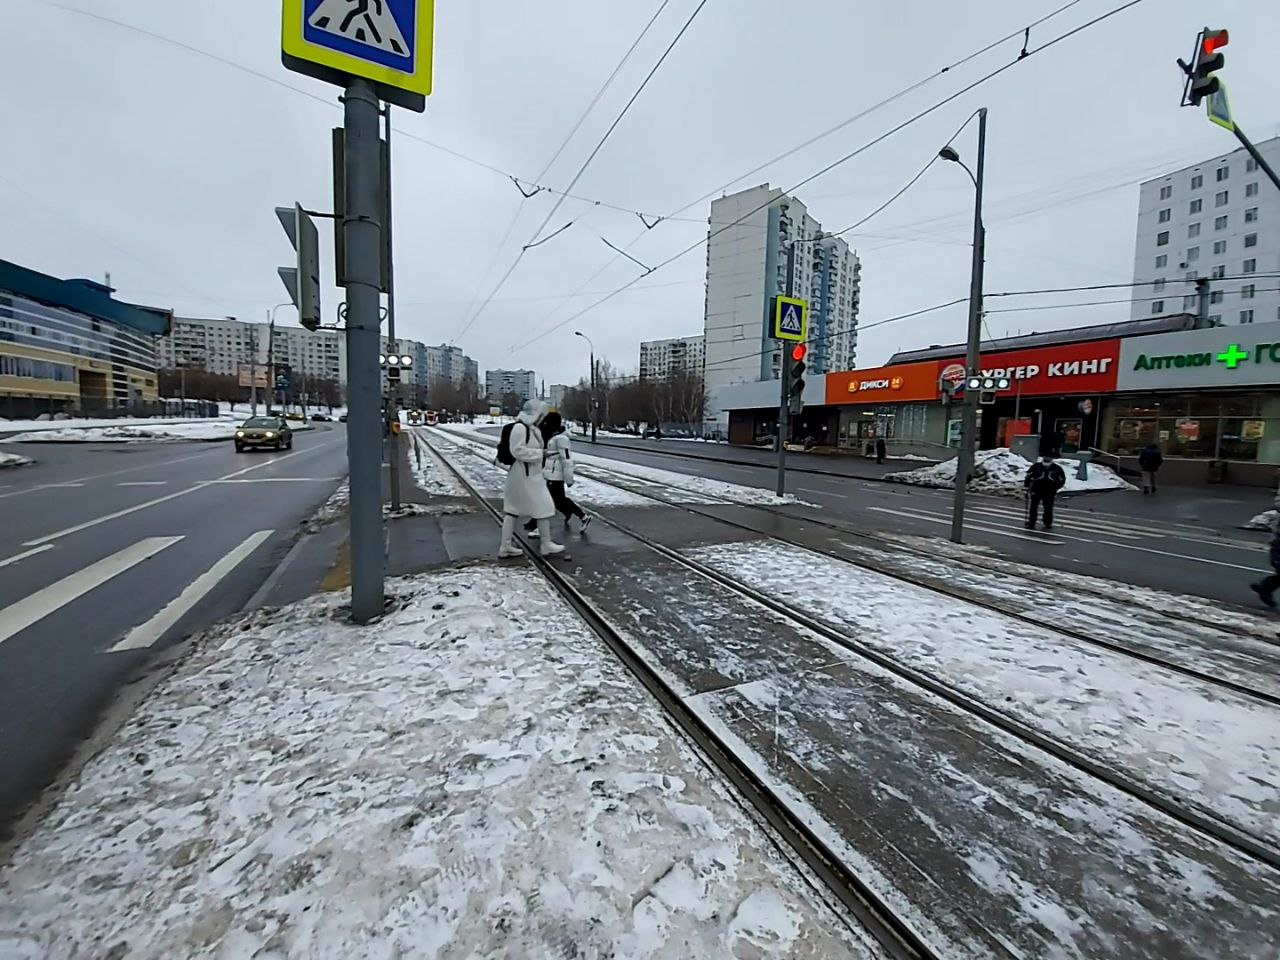sombie: (482, 377, 575, 566)
